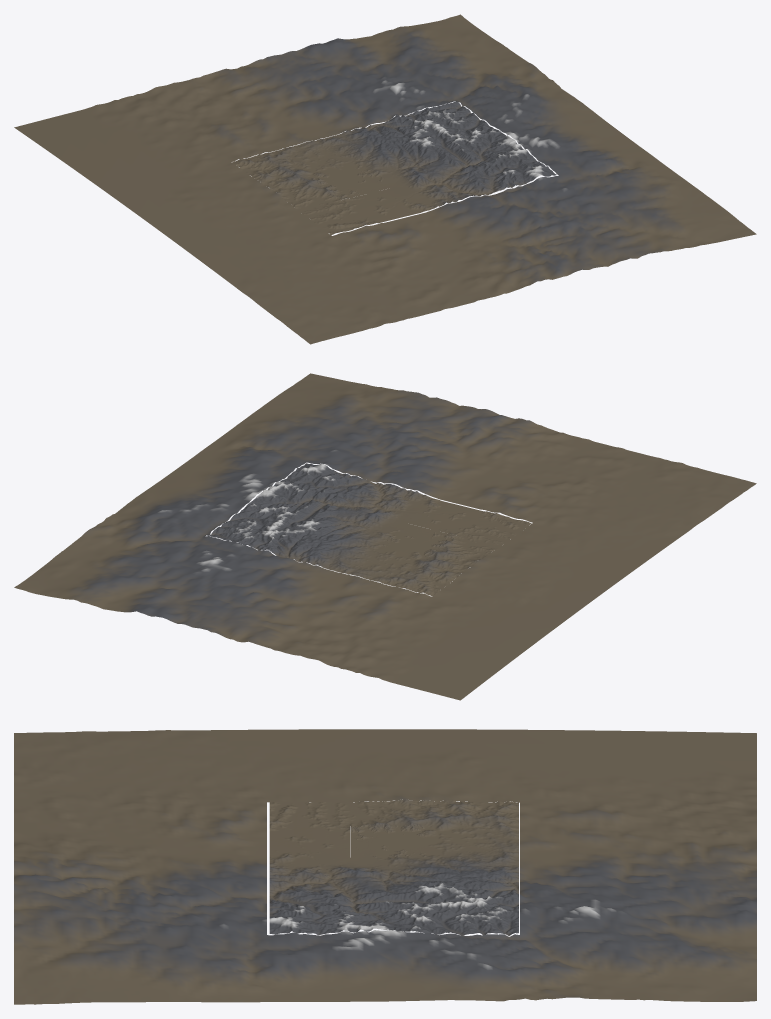
The model's file is scl_relevo.glb.
3 views of the same model, one above another, from view 1: azimuth 30°, elevation 25°; view 2: azimuth 150°, elevation 25°; view 3: azimuth 270°, elevation 25° (orthographic). The views are drawn at different scales.
Visible parts, largest first — view 1: SCL_Terrain_Far, SCL_Terrain_Mid, SCL_Terrain_Near; view 2: SCL_Terrain_Far, SCL_Terrain_Mid, SCL_Terrain_Near; view 3: SCL_Terrain_Far, SCL_Terrain_Mid, SCL_Terrain_Near.
Part boxes in pixels (x1=…): SCL_Terrain_Far: x1=14, y1=14, x2=756, y2=344; SCL_Terrain_Mid: x1=232, y1=101, x2=556, y2=234; SCL_Terrain_Near: x1=310, y1=165, x2=390, y2=200; SCL_Terrain_Far: x1=14, y1=373, x2=756, y2=700; SCL_Terrain_Mid: x1=207, y1=463, x2=531, y2=596; SCL_Terrain_Near: x1=378, y1=523, x2=458, y2=557; SCL_Terrain_Far: x1=14, y1=729, x2=756, y2=1004; SCL_Terrain_Mid: x1=269, y1=799, x2=518, y2=935; SCL_Terrain_Near: x1=350, y1=823, x2=425, y2=857.
Bounding box in the file's own units: 259200 × 8373 × 298080.
